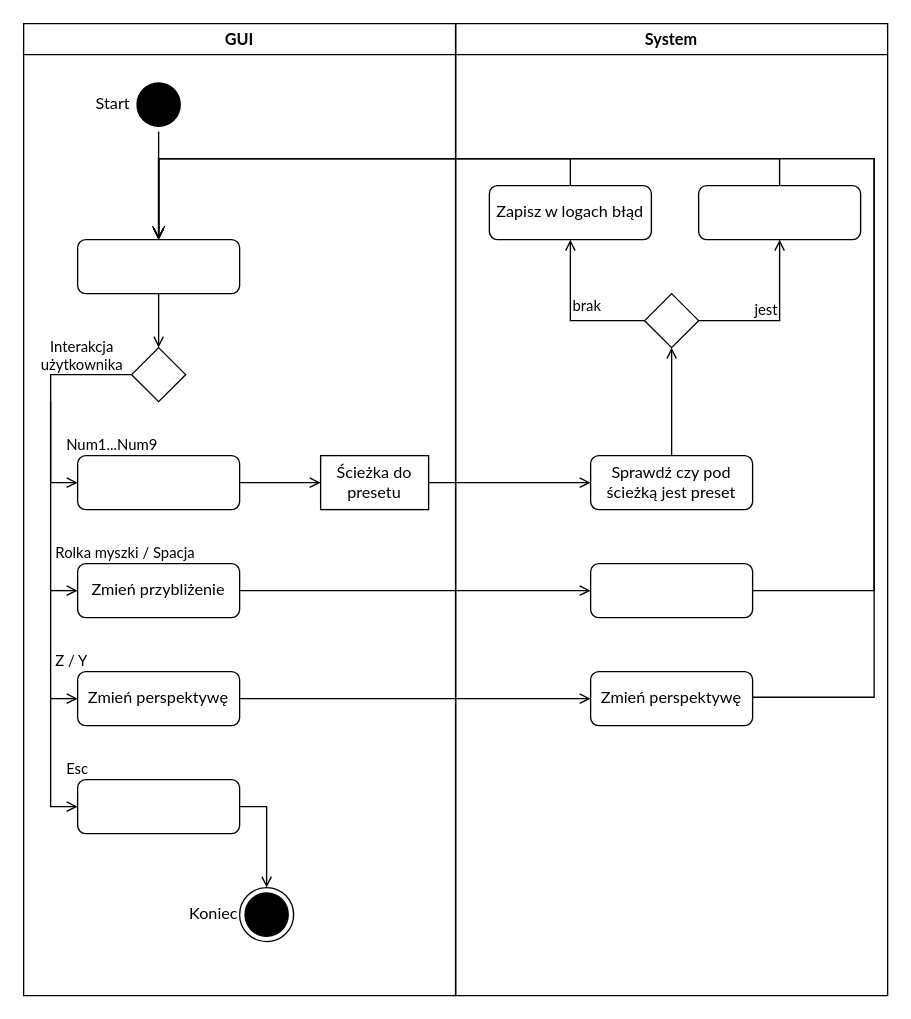
Image size: 911x1019. Some labels were removed from this diagram. The shapes that lost their labels are listed below. From the top down, each one's centre as x and y in pixels, then its label:
At [779,212]: "Zastosuj preset".
At [158,266]: "Stan pasywny".
At [158,482]: "Wybierz preset".
At [671,590]: "Zmień poziom przybliżenia".
At [158,806]: "Zakończ symulację".
